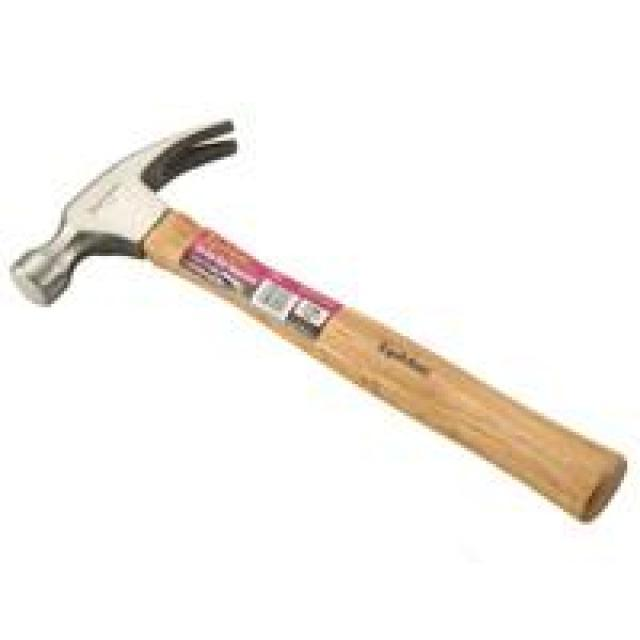hammer: (1, 108, 632, 535)
